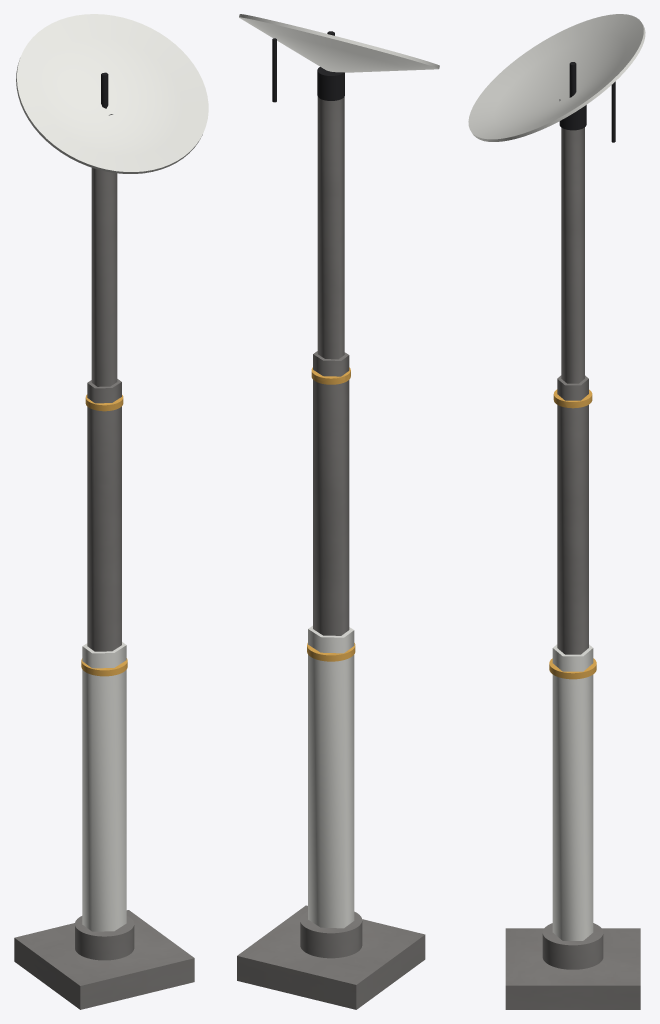
File: rover36_antenna_mast_extended.glb
3 renders of one model, left to right at view 1: azimuth 30°, elevation 25°; view 2: azimuth 150°, elevation 25°; view 3: azimuth 270°, elevation 25°, orthographic. The views are drawn at different scales.
Visible parts, largest first — view 1: head_dish, mast_1, base, mast_2, mast_3, mast_collars; view 2: mast_1, base, mast_2, mast_3, head_dish, head_gimbal, mast_collars; view 3: head_dish, mast_1, base, mast_2, mast_3, mast_collars, head_gimbal.
Part boxes in pixels (x1,y1,x2,y2): head_dish: [16, 14, 208, 173]; mast_1: [82, 642, 126, 931]; base: [14, 910, 194, 1009]; mast_2: [87, 379, 121, 651]; mast_3: [91, 168, 117, 386]; mast_collars: [81, 394, 127, 676]; mast_1: [308, 625, 354, 928]; base: [237, 905, 425, 1009]; mast_2: [313, 351, 349, 635]; mast_3: [317, 97, 344, 359]; head_dish: [239, 14, 439, 72]; head_gimbal: [317, 31, 344, 100]; mast_collars: [307, 367, 355, 661]; head_dish: [468, 14, 645, 141]; mast_1: [552, 644, 593, 940]; base: [505, 923, 640, 1009]; mast_2: [557, 375, 588, 654]; mast_3: [561, 127, 584, 383]; mast_collars: [549, 389, 596, 679]; head_gimbal: [559, 62, 586, 130].
Bounding box in the file's own units: 0.5996 × 3.11 × 0.5245.
4 materials, 2 textured.
